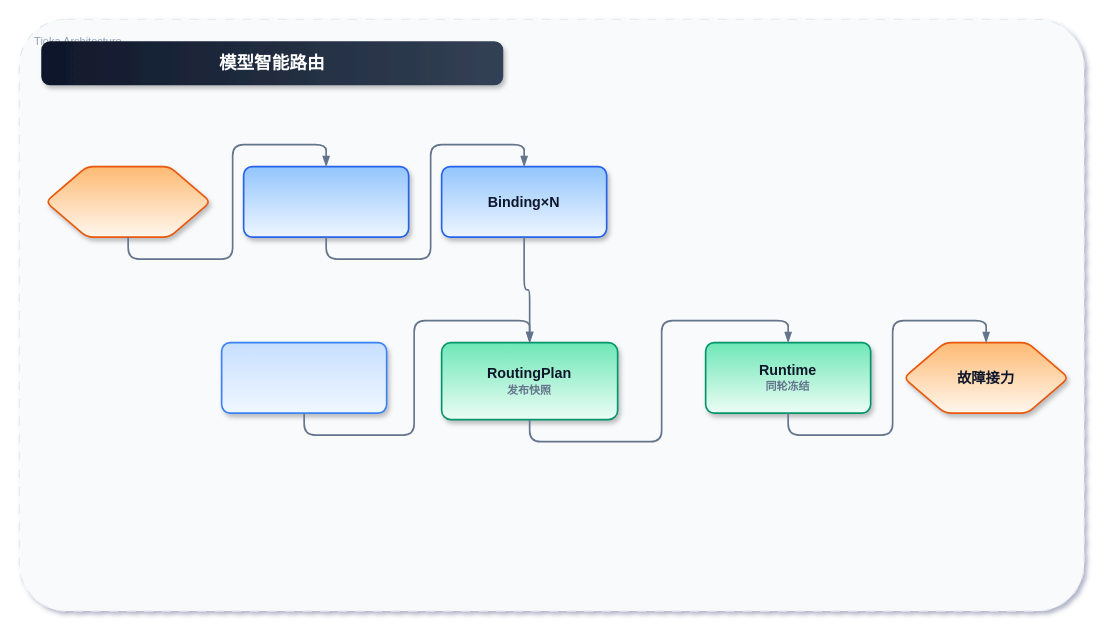
Image size: 1110x637. Some labels were removed from this diagram. The shapes that lost their labels are listed below. From the top down, each one's centre as x and y in pixels, then its label:
the point at 129,203: Provider
the point at 327,203: LogicalModel
the point at 305,379: 决策/启发式
